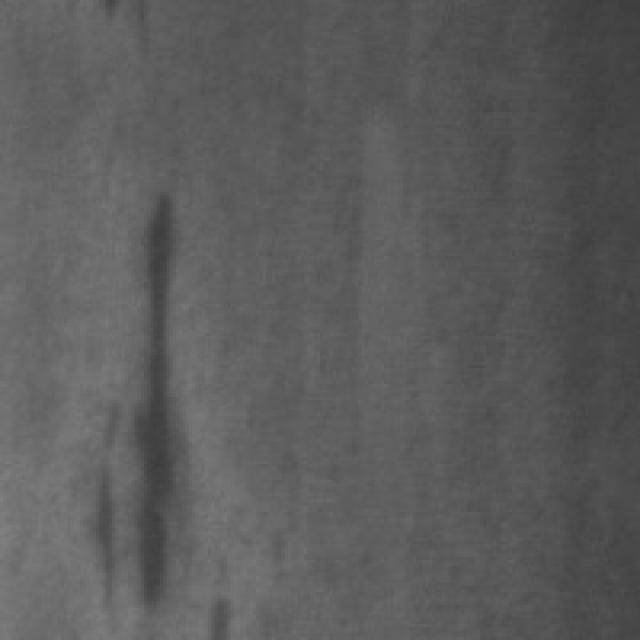inclusion: (77, 176, 198, 621)
